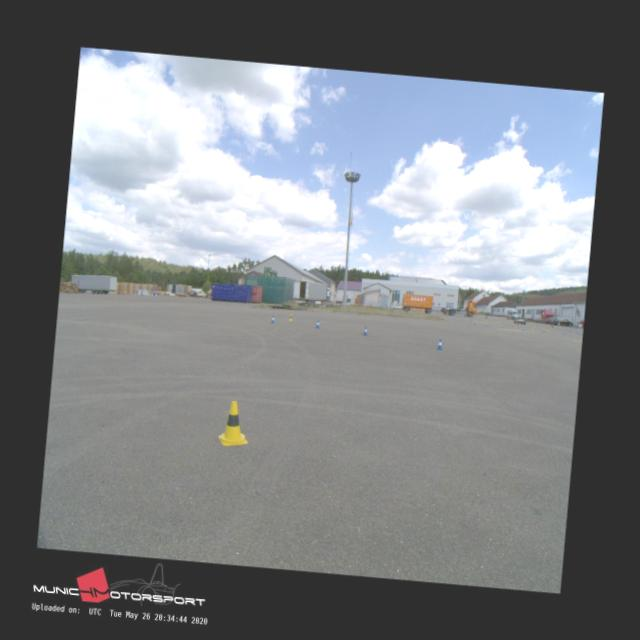blue_cone: (436, 338, 443, 350), (362, 326, 368, 335), (314, 320, 320, 328), (270, 315, 275, 323)
yellow_cone: (217, 399, 250, 447), (288, 314, 292, 322)
